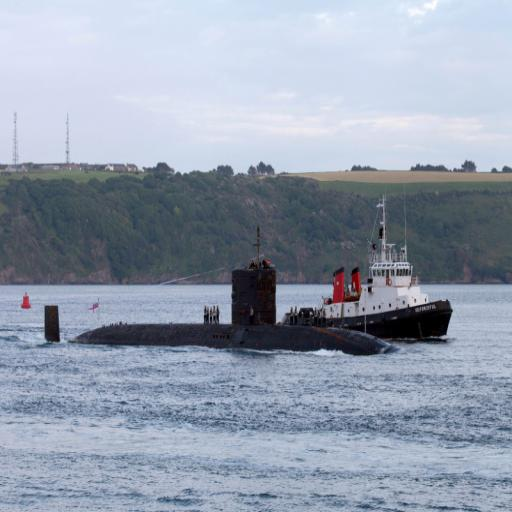submarine: (45, 271, 397, 353)
